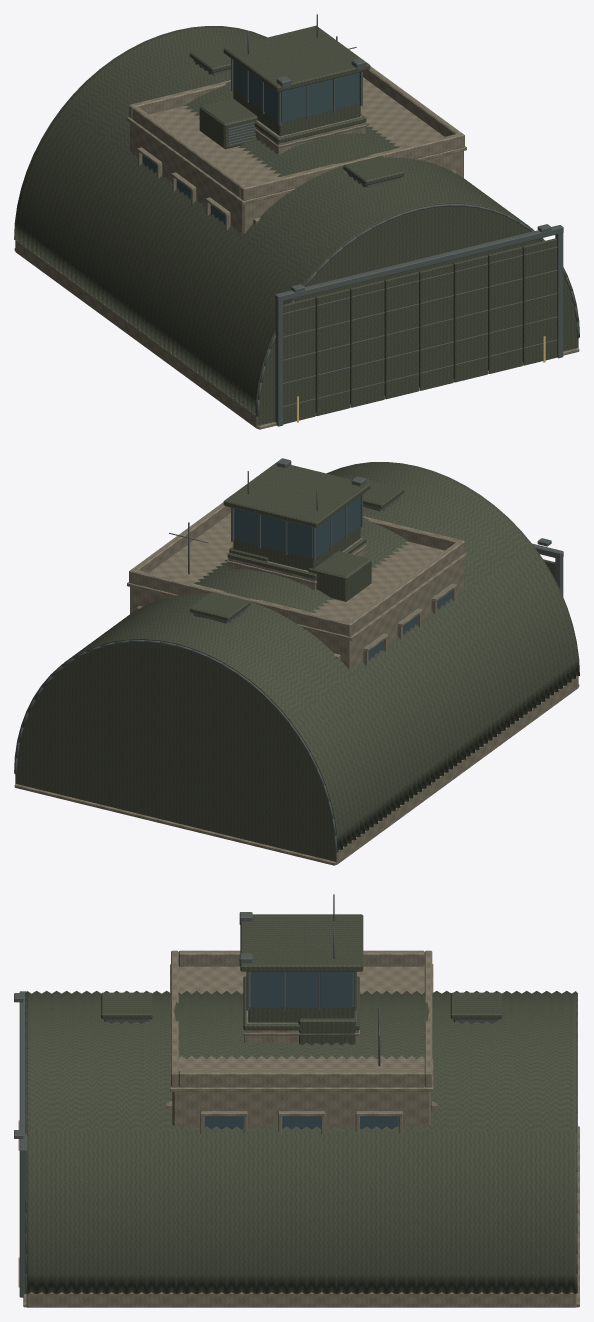
Rendered from outpost-kit.glb.
The picture shows the model from 3 angles, top to bottom: view 1: azimuth 30°, elevation 25°; view 2: azimuth 150°, elevation 25°; view 3: azimuth 270°, elevation 25°; orthographic projection. The views are drawn at different scales.
Parts seen in each view (by area): view 1: hangar__Scuffed_olive_painted_steel, command__Weathered_warm_concrete, hangar__Dark_gunmetal_fittings, watchtower__Scuffed_olive_painted_steel, watchtower__Dusty_smoked_glass, hangar__Weathered_warm_concrete, command__Scuffed_olive_painted_steel, watchtower__Dark_gunmetal_fittings, watchtower__Weathered_warm_concrete; view 2: hangar__Scuffed_olive_painted_steel, command__Weathered_warm_concrete, watchtower__Scuffed_olive_painted_steel, hangar__Weathered_warm_concrete, watchtower__Dusty_smoked_glass, command__Scuffed_olive_painted_steel, hangar__Dark_gunmetal_fittings, watchtower__Dark_gunmetal_fittings, watchtower__Weathered_warm_concrete; view 3: hangar__Scuffed_olive_painted_steel, command__Weathered_warm_concrete, watchtower__Scuffed_olive_painted_steel, hangar__Weathered_warm_concrete, watchtower__Dusty_smoked_glass, hangar__Dark_gunmetal_fittings, command__Scuffed_olive_painted_steel, command__Dusty_smoked_glass, watchtower__Weathered_warm_concrete, watchtower__Dark_gunmetal_fittings.
Boxes of the visible parts, left/top/right/bottom form: hangar__Scuffed_olive_painted_steel: left=14, top=26, right=579, bottom=425; command__Weathered_warm_concrete: left=127, top=66, right=466, bottom=233; hangar__Dark_gunmetal_fittings: left=193, top=60, right=579, bottom=426; watchtower__Scuffed_olive_painted_steel: left=223, top=25, right=370, bottom=143; watchtower__Dusty_smoked_glass: left=233, top=60, right=359, bottom=122; hangar__Weathered_warm_concrete: left=14, top=240, right=579, bottom=429; command__Scuffed_olive_painted_steel: left=199, top=98, right=257, bottom=149; watchtower__Dark_gunmetal_fittings: left=231, top=14, right=366, bottom=148; watchtower__Weathered_warm_concrete: left=254, top=115, right=366, bottom=154; hangar__Scuffed_olive_painted_steel: left=14, top=462, right=579, bottom=861; command__Weathered_warm_concrete: left=127, top=502, right=466, bottom=669; watchtower__Scuffed_olive_painted_steel: left=223, top=462, right=370, bottom=579; hangar__Weathered_warm_concrete: left=14, top=676, right=579, bottom=865; watchtower__Dusty_smoked_glass: left=234, top=496, right=360, bottom=558; command__Scuffed_olive_painted_steel: left=229, top=546, right=371, bottom=601; hangar__Dark_gunmetal_fittings: left=14, top=496, right=563, bottom=852; watchtower__Dark_gunmetal_fittings: left=228, top=458, right=366, bottom=584; watchtower__Weathered_warm_concrete: left=227, top=537, right=366, bottom=590; hangar__Scuffed_olive_painted_steel: left=26, top=990, right=576, bottom=1293; command__Weathered_warm_concrete: left=166, top=950, right=437, bottom=1134; watchtower__Scuffed_olive_painted_steel: left=240, top=914, right=363, bottom=1030; hangar__Weathered_warm_concrete: left=23, top=1126, right=579, bottom=1307; watchtower__Dusty_smoked_glass: left=250, top=971, right=352, bottom=1007; hangar__Dark_gunmetal_fittings: left=14, top=991, right=577, bottom=1297; command__Scuffed_olive_painted_steel: left=298, top=1010, right=356, bottom=1045; command__Dusty_smoked_glass: left=204, top=1116, right=398, bottom=1129; watchtower__Weathered_warm_concrete: left=243, top=1010, right=359, bottom=1044; watchtower__Dark_gunmetal_fittings: left=239, top=894, right=359, bottom=1035.
Bounding box in the file's own units: 65.96 × 52 × 87.45.
6 materials, 3 textured.
